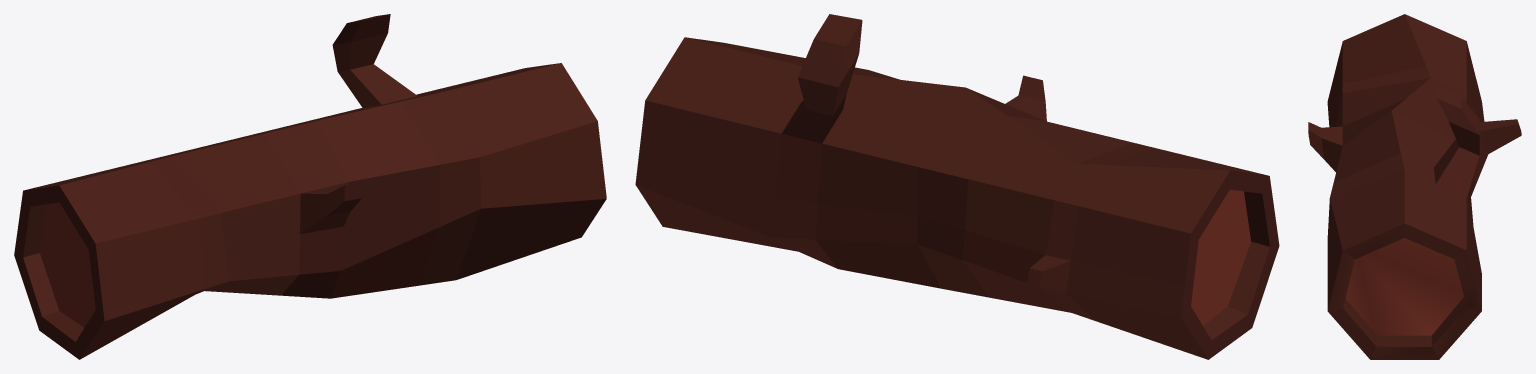
File: Log_5_Red.fbx
3 views of the same model, side by side, from view 1: azimuth 30°, elevation 25°; view 2: azimuth 150°, elevation 25°; view 3: azimuth 270°, elevation 25° (orthographic). The views are drawn at different scales.
Visible parts, largest first — view 1: Log_5_Red_Part_1, Log_5_Red_Part_2; view 2: Log_5_Red_Part_1, Log_5_Red_Part_2; view 3: Log_5_Red_Part_1, Log_5_Red_Part_2.
Boxes of the visible parts, x1,y1,x2,y2 form: Log_5_Red_Part_1: (14, 63, 606, 359); Log_5_Red_Part_2: (300, 14, 417, 233); Log_5_Red_Part_1: (635, 37, 1279, 359); Log_5_Red_Part_2: (782, 14, 1070, 292); Log_5_Red_Part_1: (1327, 14, 1488, 359); Log_5_Red_Part_2: (1308, 85, 1521, 197).
Bounding box in the file's own units: 250 × 117 × 108.
